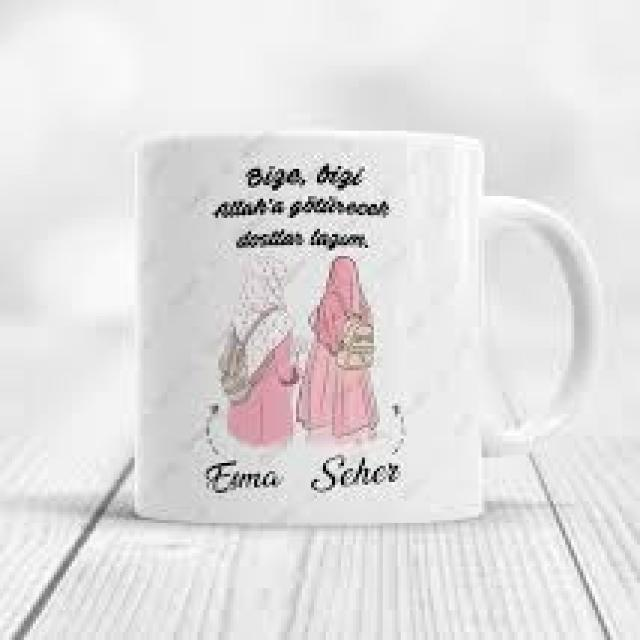taza: (134, 130, 604, 524)
